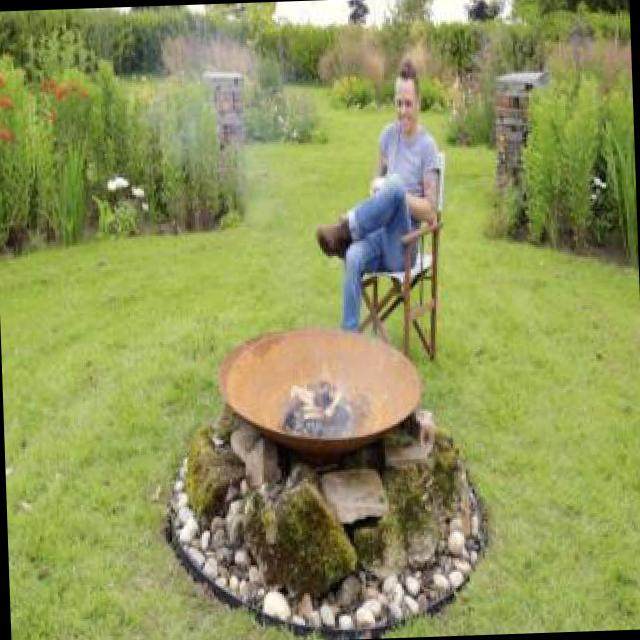Fire: (292, 365, 342, 433)
